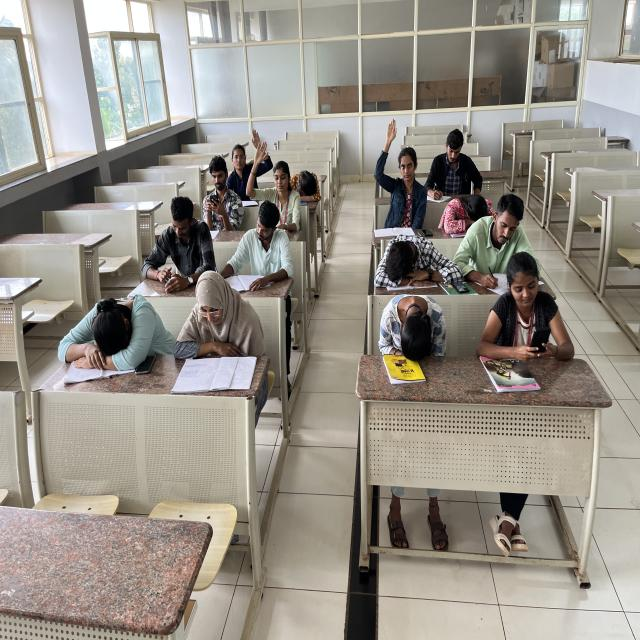Hand Rising: (374, 117, 429, 220), (247, 138, 300, 216), (228, 126, 271, 190)
Reading: (172, 275, 260, 386)
Sleeping: (51, 292, 159, 364), (377, 294, 454, 356), (376, 232, 458, 288), (446, 193, 498, 237), (290, 166, 326, 203)
Using Phone: (477, 249, 577, 357), (138, 190, 217, 285), (199, 153, 244, 224)
Writing: (457, 195, 542, 294), (218, 202, 292, 293), (425, 132, 484, 206)
